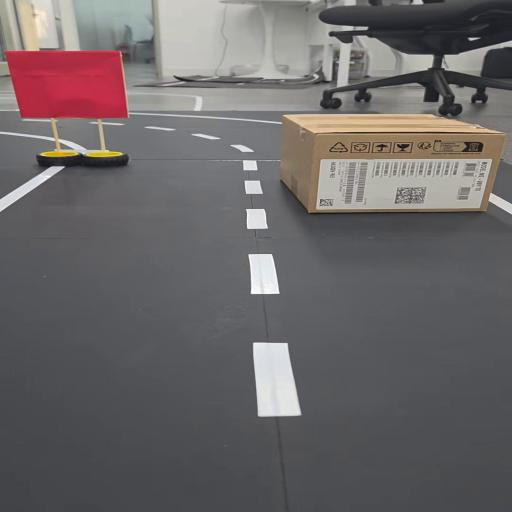Box: (271, 110, 512, 220)
Sign_A: (3, 47, 159, 173)
